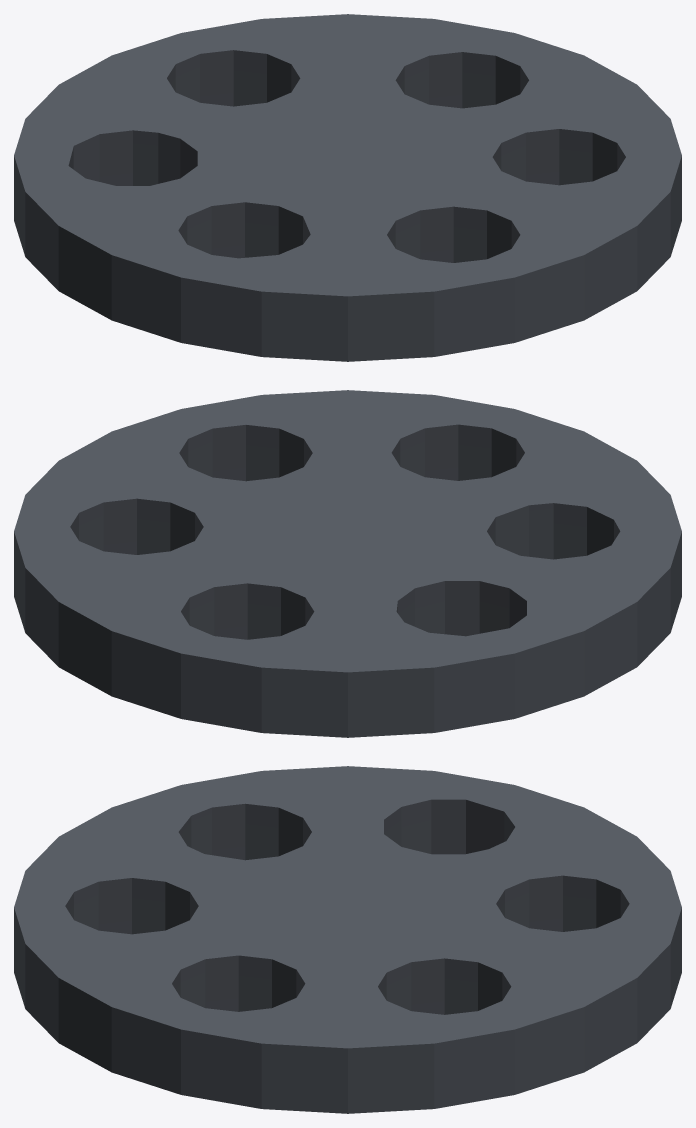
File: Cog.glb
3 renders of one model, top to bottom at view 1: azimuth 30°, elevation 25°; view 2: azimuth 150°, elevation 25°; view 3: azimuth 270°, elevation 25°, orthographic.
Parts seen in each view (by area): view 1: Cog; view 2: Cog; view 3: Cog.
Boxes of the visible parts, x1,y1,x2,y2 form: Cog: [14, 14, 681, 361]; Cog: [14, 390, 681, 737]; Cog: [14, 766, 681, 1113].
Size of what is drawn, in the model's own units: 0.9941 by 0.1075 by 0.9941.
1 material, 1 textured.
